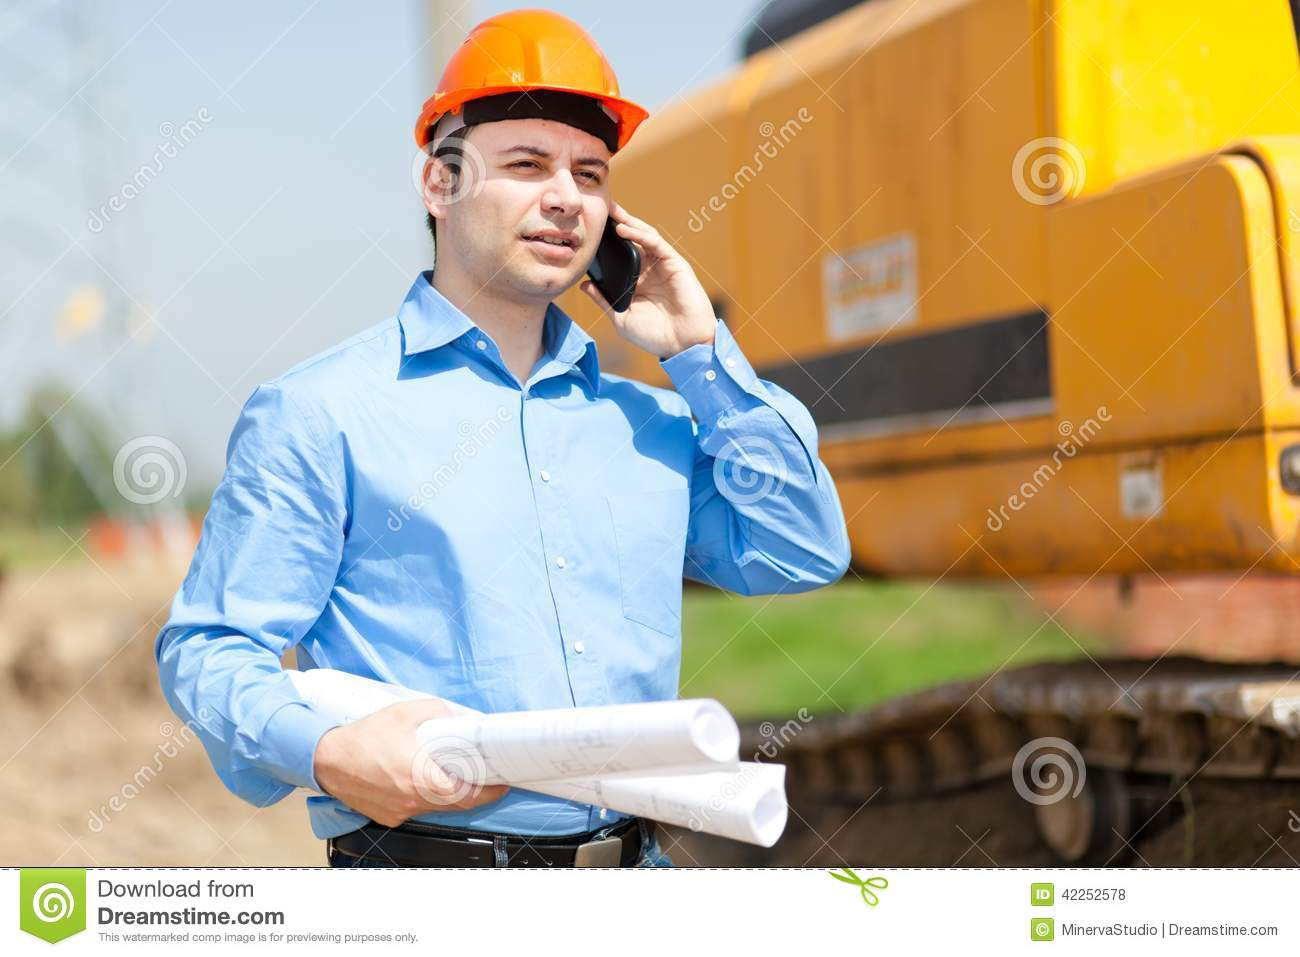phone: (585, 218, 644, 317)
talk: (488, 133, 705, 355)
